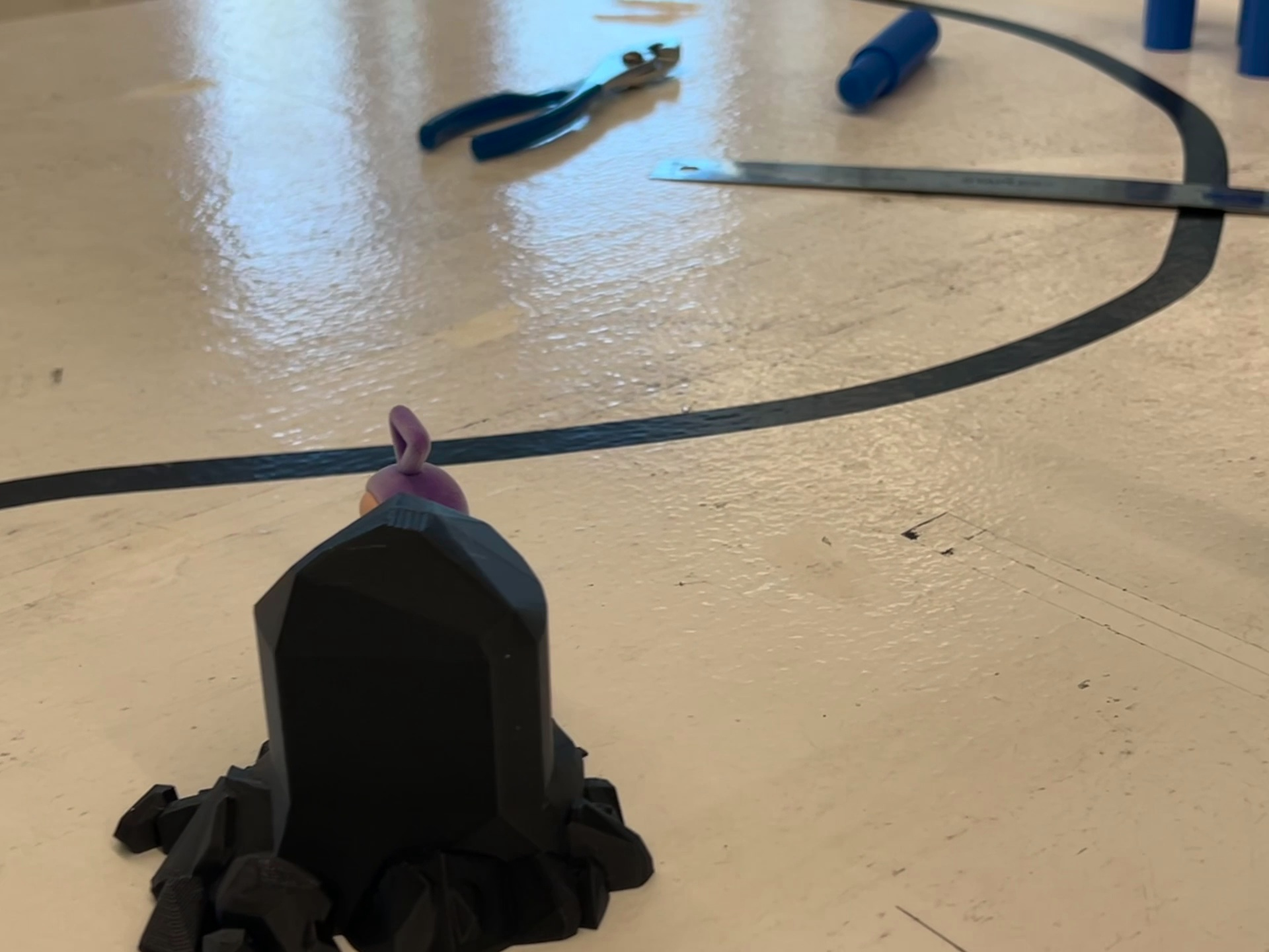teletubby: (360, 405, 468, 517)
